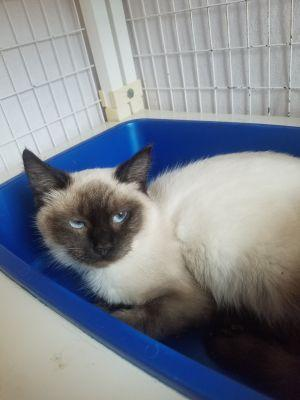siamese: (19, 138, 160, 283)
